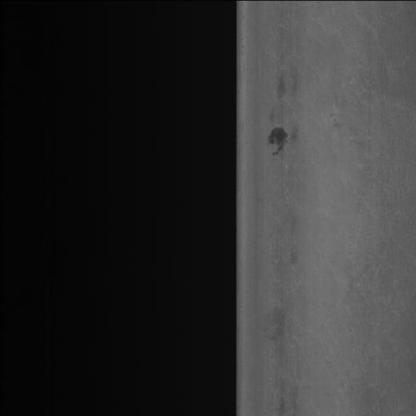oil_spot: (264, 112, 292, 162)
